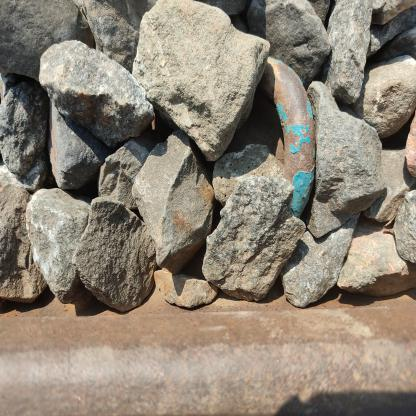Non Defective: (193, 30, 388, 338)
